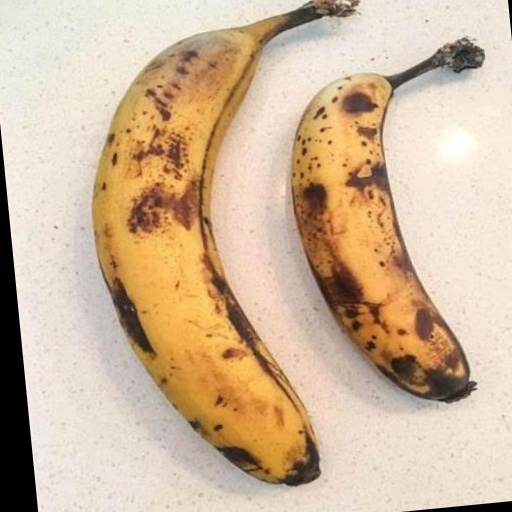fruit: (291, 38, 483, 401)
